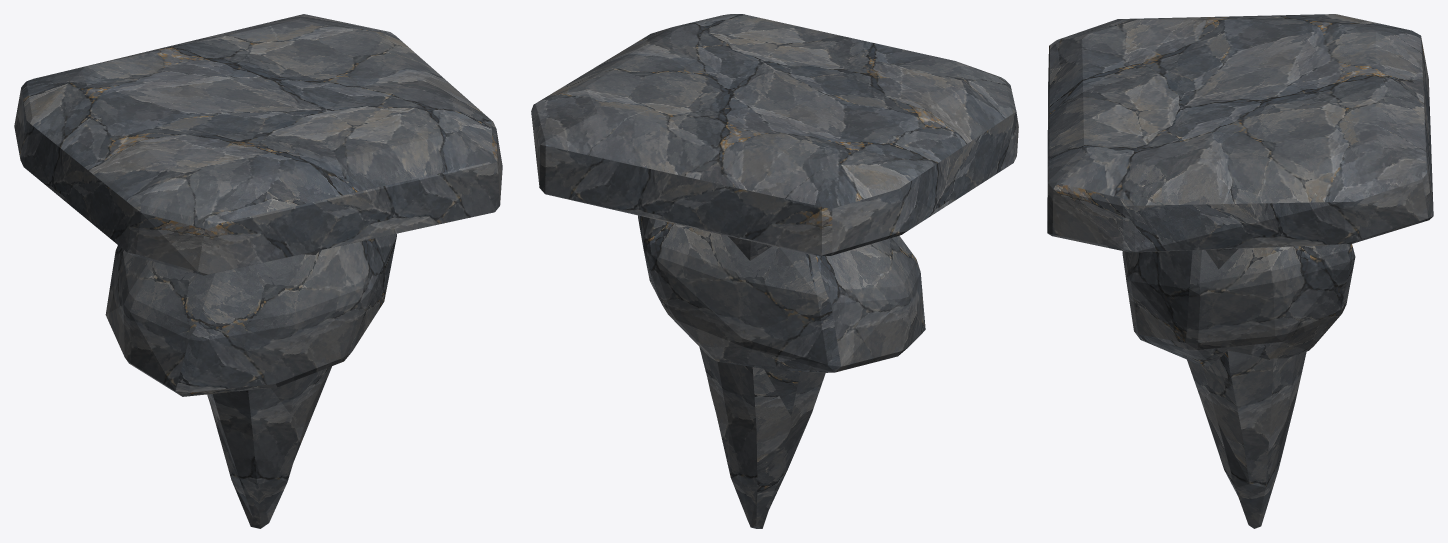
Rendered from Cave_R18_HangingRock.fbx.
The picture shows the model from 3 angles, left to right: view 1: azimuth 30°, elevation 25°; view 2: azimuth 150°, elevation 25°; view 3: azimuth 270°, elevation 25°; orthographic projection.
Parts seen in each view (by area): view 1: Cave_R18_HangingRock_LOD0; view 2: Cave_R18_HangingRock_LOD0; view 3: Cave_R18_HangingRock_LOD0.
Boxes of the visible parts, <box> form: Cave_R18_HangingRock_LOD0: <box>14,14,502,528</box>; Cave_R18_HangingRock_LOD0: <box>531,14,1018,528</box>; Cave_R18_HangingRock_LOD0: <box>1047,14,1433,528</box>.
Size of what is drawn, in the model's own units: 2.17 by 2.45 by 1.94.
1 material, 1 textured.
